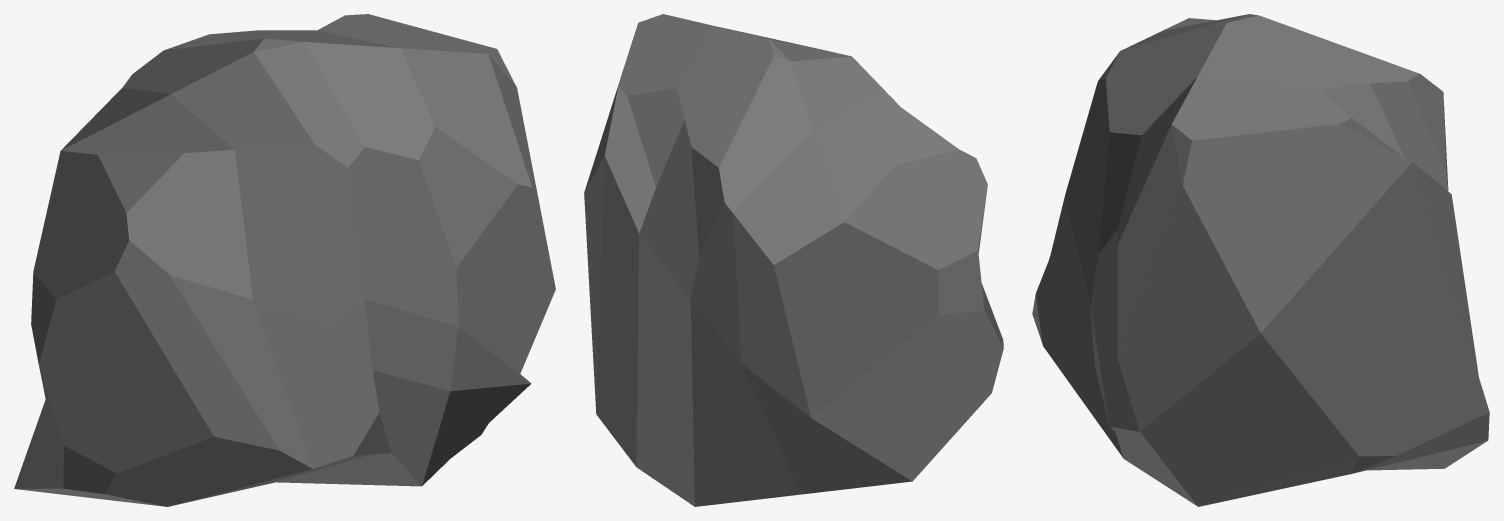
File: Stein_Mittel_001.fbx
3 renders of one model, left to right at view 1: azimuth 30°, elevation 25°; view 2: azimuth 150°, elevation 25°; view 3: azimuth 270°, elevation 25°, orthographic. The views are drawn at different scales.
Parts seen in each view (by area): view 1: Stein_Mittel_001; view 2: Stein_Mittel_001; view 3: Stein_Mittel_001.
Part boxes in pixels (x1,y1,x2,y2): Stein_Mittel_001: (14,14,555,506); Stein_Mittel_001: (584,14,1003,506); Stein_Mittel_001: (1032,14,1489,506).
Size of the model in its own units: 247 by 240 by 218.
